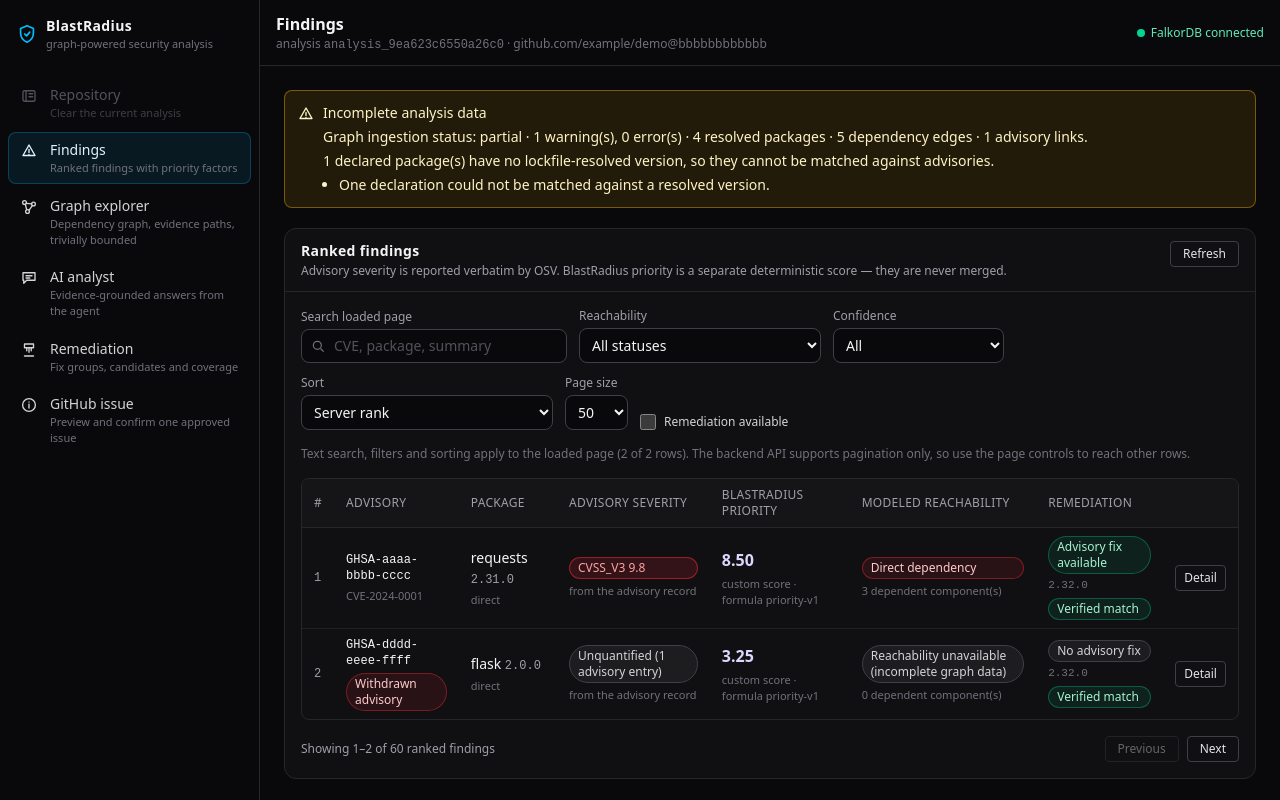
Test case: Screen B — ranked findings › paginates with the API's skip/limit parameters
Expected: the text "GHSA-aaaa-bbbb-cccc" is shown, top-left (346, 553), bottom-right (418, 583)
Expected: the button "Previous" is disabled, top-left (1104, 736), bottom-right (1179, 762)
Click the button "Next": (1213, 749) top-left (1187, 736), bottom-right (1239, 762)
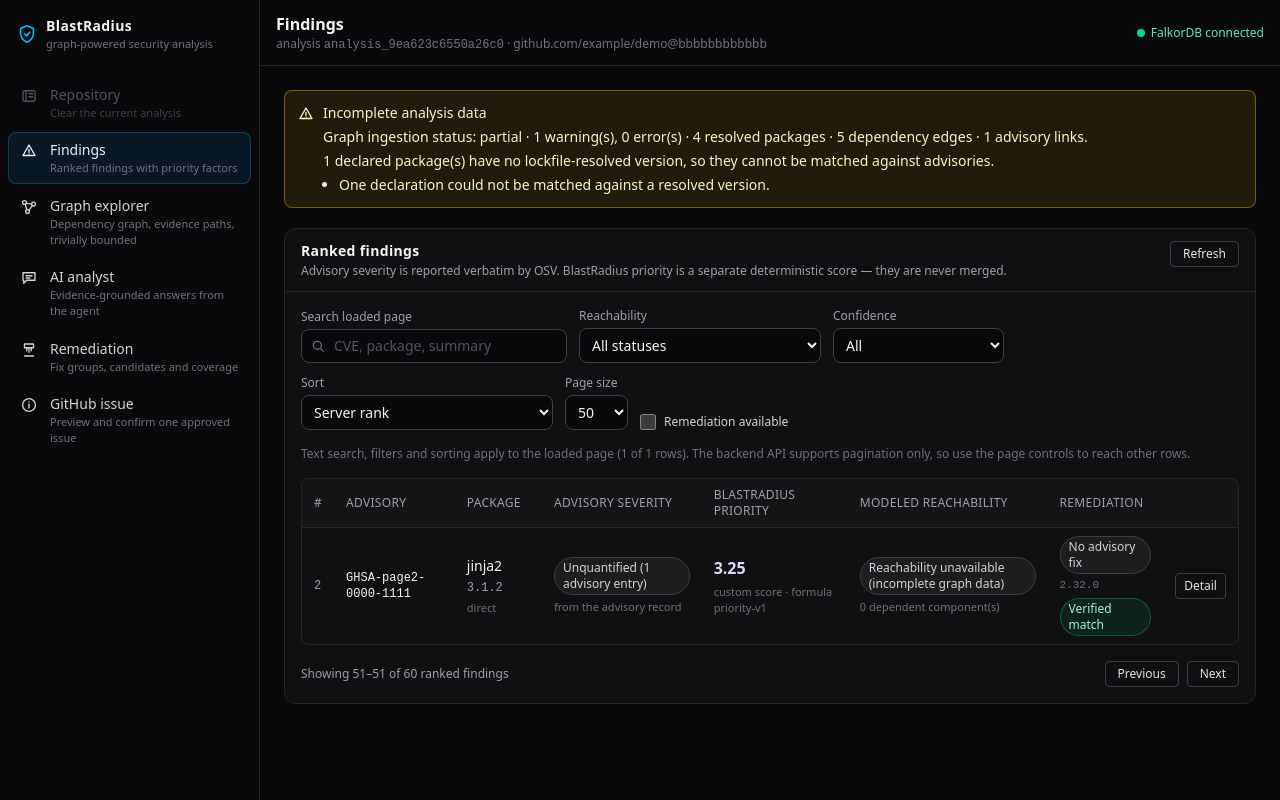
Now the text "GHSA-page2-0000-1111" is shown, box top-left (346, 571), bottom-right (425, 601)
Now the text "Showing 51–51 of 60 ranked findings" is shown, box top-left (301, 666), bottom-right (509, 682)
